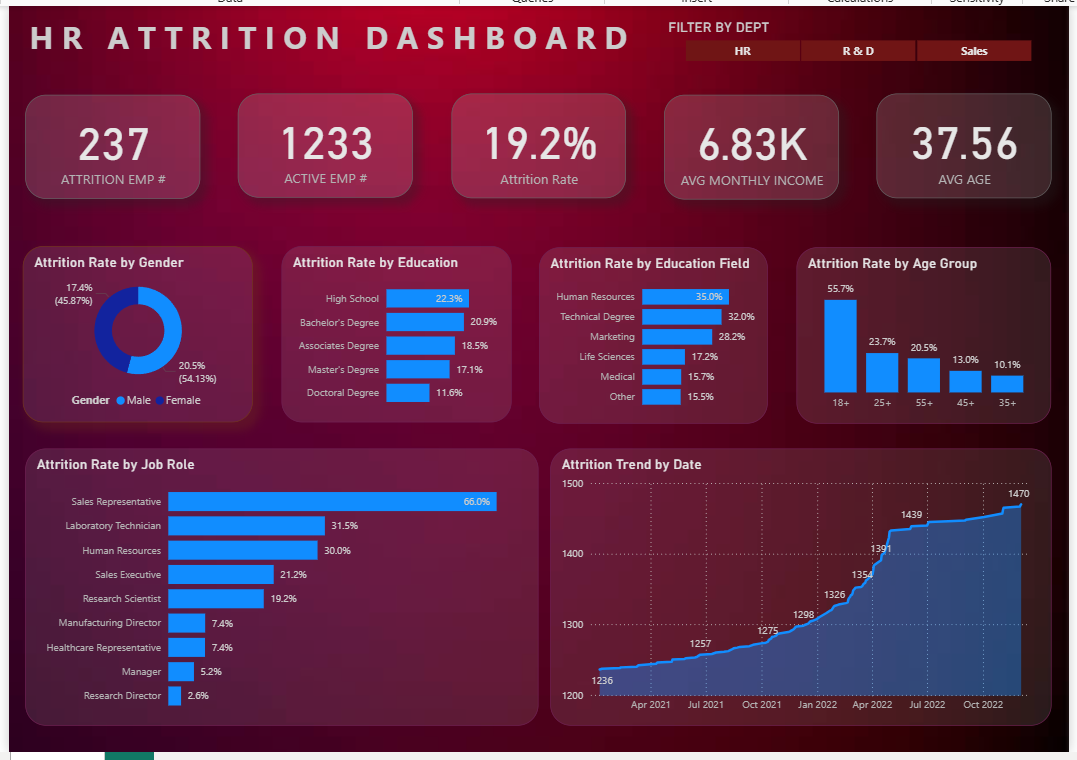

The page's visual inventory and layout, read from the dashboard file:
{"tool":"powerbi","page":{"name":"Page 1","canvas":[1280,900],"ordinal":0},"visuals":[{"type":"slicer","title":"FILTER BY DEPT","fields":{"Values":["Attrition.Department"]},"box":[789.9,15.1,467.3,57.3],"z":0},{"type":"card","fields":{"Values":["Sum(Attrition.Employee Count)"]},"box":[19.5,107,211.6,125.2],"z":1000},{"type":"card","fields":{"Values":["Sum(Attrition.Employee Count)"]},"box":[276.5,105.6,211.2,125.9],"z":2000},{"type":"card","fields":{"Values":["Attrition.Attrition Rate"]},"box":[533.7,105.8,210.3,126.4],"z":3000},{"type":"card","fields":{"Values":["Avg(Attrition.Monthly Income)"]},"box":[789.8,107,211.6,126.4],"z":4000},{"type":"card","fields":{"Values":["Avg(Attrition.Age)"]},"box":[1046.8,105.8,211.6,126.4],"z":5000},{"type":"donutChart","fields":{"Y":["Attrition.Attrition Rate"],"Category":["Attrition.Gender"]},"box":[17,290.3,277.2,212.8],"z":6000},{"type":"clusteredBarChart","fields":{"Category":["Attrition.Education Field"],"Y":["Attrition.Attrition Rate"]},"box":[639.7,291,275.9,212.6],"z":7000},{"type":"clusteredBarChart","fields":{"Category":["Attrition.Education"],"Y":["Attrition.Attrition Rate"]},"box":[328.4,290.3,277.2,212.8],"z":8000},{"type":"clusteredColumnChart","fields":{"Y":["Attrition.Attrition Rate"],"Category":["Attrition.Age Group"]},"box":[949.7,291,307.5,212.6],"z":9000},{"type":"clusteredBarChart","fields":{"Category":["Attrition.Job Role"],"Y":["Attrition.Attrition Rate"]},"box":[19.6,533.7,619.6,334.7],"z":10000},{"type":"areaChart","title":"Attrition Trend by Date","fields":{"Category":["Attrition.Attrition Date"],"Y":["Attrition.Employee Count running total in Attrition Date"]},"box":[652.8,533.7,604.5,334.7],"z":11000},{"type":"textbox","box":[19.6,7.5,850.3,70.9],"z":12000}]}

Visuals, with their boxes on the page's 1280x900 design canvas (x1, y1, x2, y2). These are canvas units, not pixel positions in the 1077x760 screenshot, which may show the page scaled, cropped or inside an application window:
"FILTER BY DEPT" slicer: (left=790, top=15, right=1257, bottom=72)
card - Sum(Attrition.Employee Count): (left=20, top=107, right=231, bottom=232)
card - Sum(Attrition.Employee Count): (left=276, top=106, right=488, bottom=232)
card - Attrition.Attrition Rate: (left=534, top=106, right=744, bottom=232)
card - Avg(Attrition.Monthly Income): (left=790, top=107, right=1001, bottom=233)
card - Avg(Attrition.Age): (left=1047, top=106, right=1258, bottom=232)
donutChart - Attrition.Attrition Rate x Attrition.Gender: (left=17, top=290, right=294, bottom=503)
clusteredBarChart - Attrition.Education Field x Attrition.Attrition Rate: (left=640, top=291, right=916, bottom=504)
clusteredBarChart - Attrition.Education x Attrition.Attrition Rate: (left=328, top=290, right=606, bottom=503)
clusteredColumnChart - Attrition.Attrition Rate x Attrition.Age Group: (left=950, top=291, right=1257, bottom=504)
clusteredBarChart - Attrition.Job Role x Attrition.Attrition Rate: (left=20, top=534, right=639, bottom=868)
"Attrition Trend by Date" areaChart: (left=653, top=534, right=1257, bottom=868)
textbox: (left=20, top=8, right=870, bottom=78)
